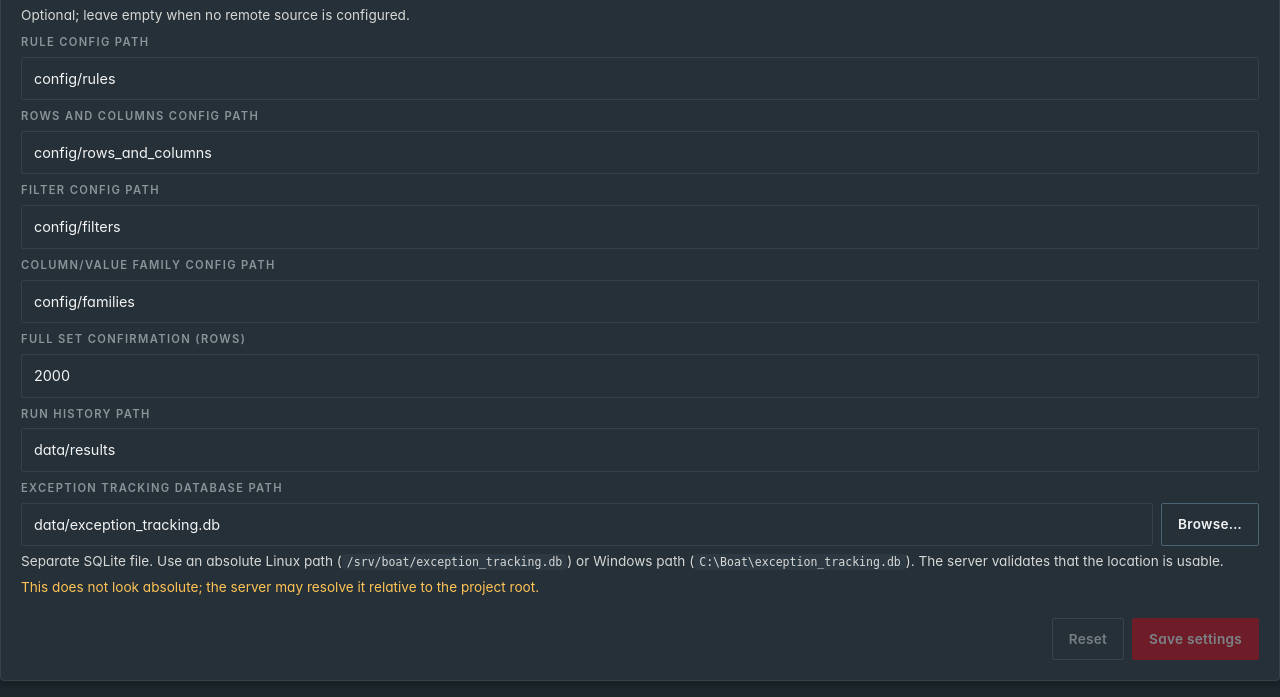
Scenario: SettingsPage › saves an absolute Linux exception-tracking database path
(page scrolled)
Replace the text in the dropdown labelled "Exception tracking database path" with "/srv/boat/exception_tracking.db" at (587, 525), box 21,503 -> 1153,546
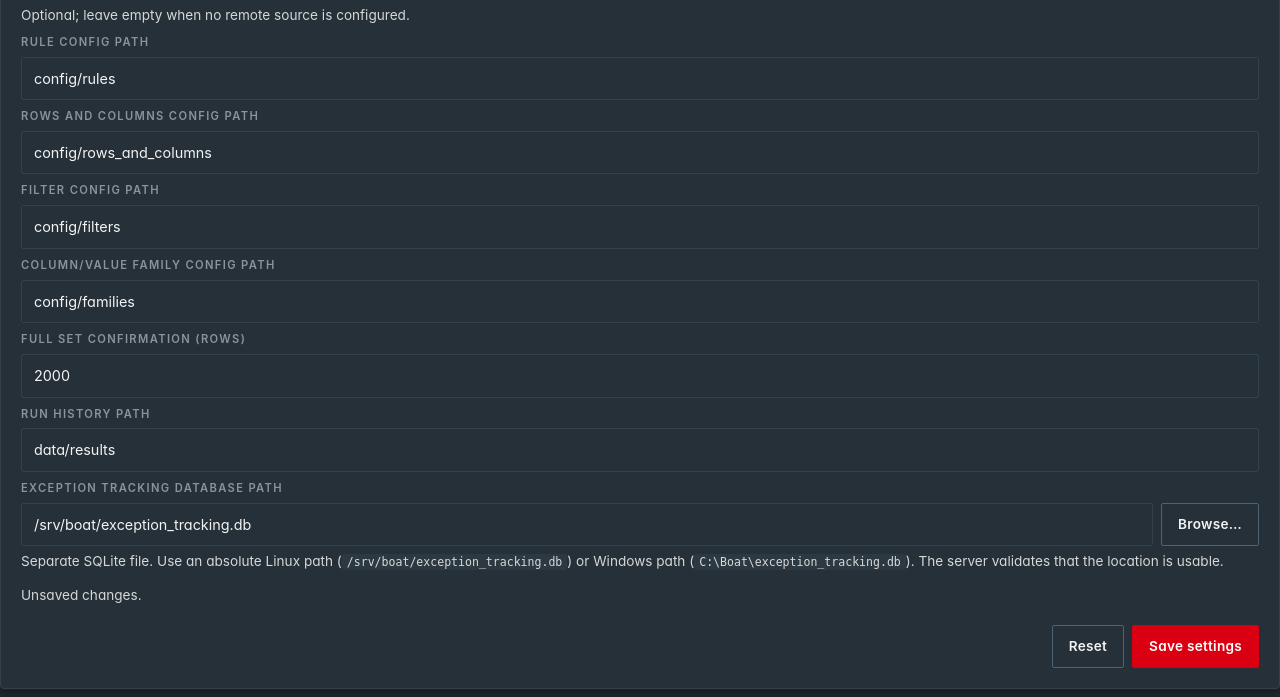
Click the button "Save settings" at (1196, 647), box 1132,625 -> 1259,668
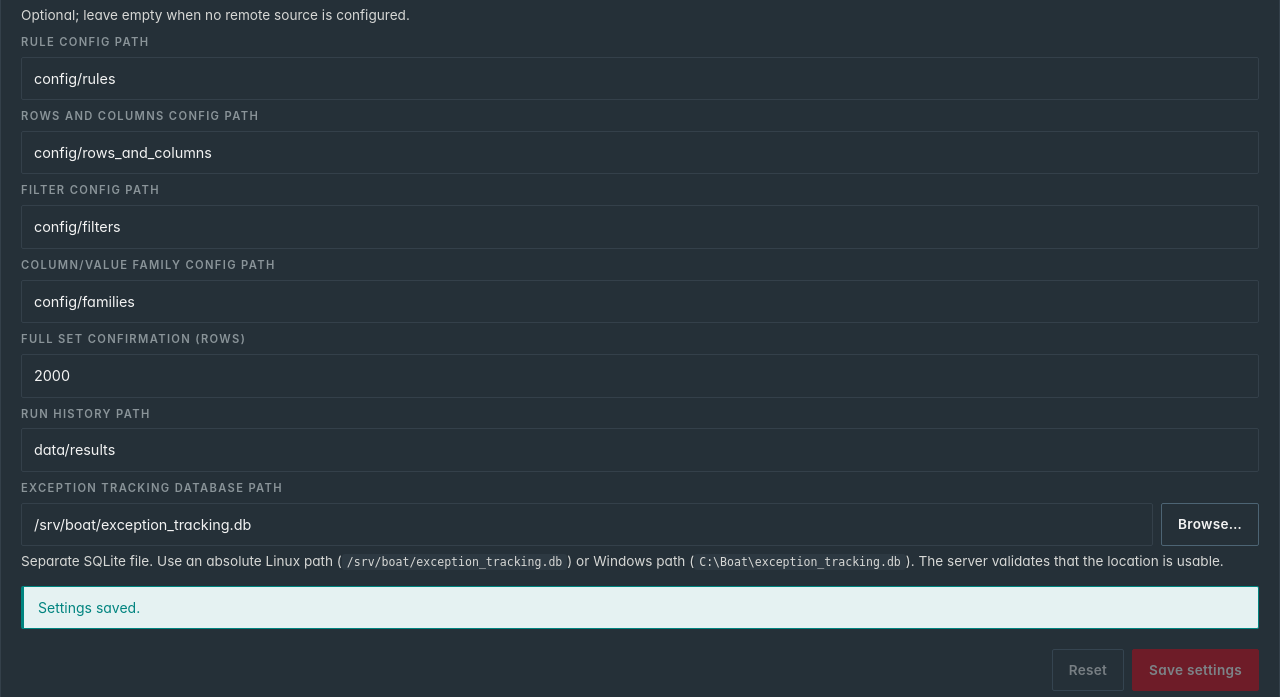
expect the text "/srv/boat/exception_tracking.db" is shown: met, box 342,554 -> 567,570
expect the text "Settings saved." is shown: met, box 21,586 -> 1259,629
